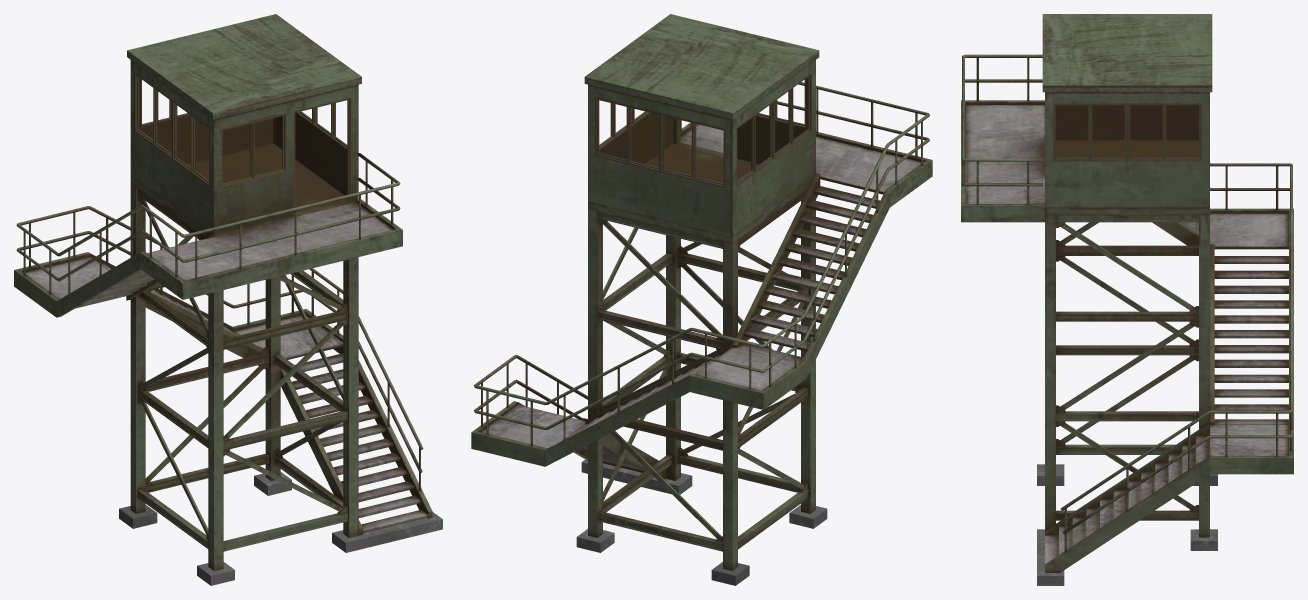
File: bridge-guardtower.lod0.glb
The picture shows the model from 3 angles, left to right: view 1: azimuth 30°, elevation 25°; view 2: azimuth 150°, elevation 25°; view 3: azimuth 270°, elevation 25°; orthographic projection.
Visible parts, largest first — view 1: defaultMaterial; view 2: defaultMaterial; view 3: defaultMaterial.
Part boxes in pixels (left/top/right/bottom): defaultMaterial: left=14, top=14, right=442, bottom=585; defaultMaterial: left=471, top=14, right=932, bottom=585; defaultMaterial: left=961, top=14, right=1293, bottom=585.
Size of the model in its own units: 6.19 by 9.3 by 6.06.
1 material, 1 textured.
